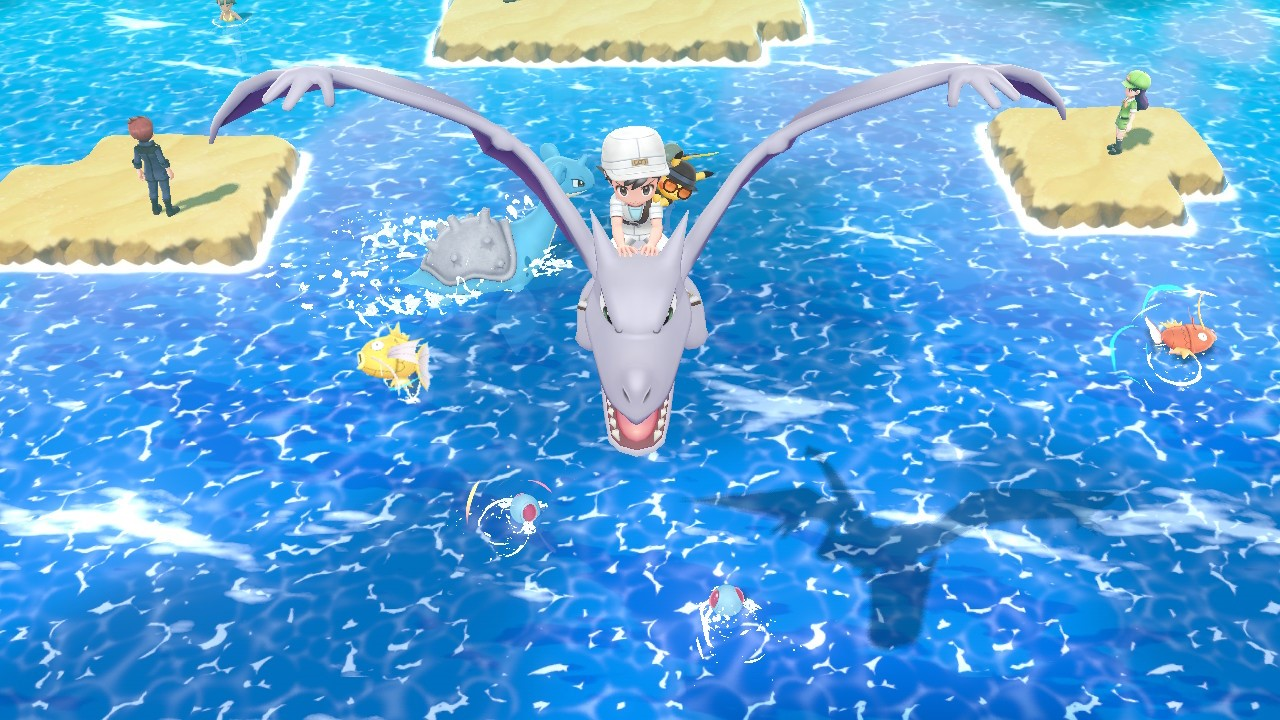Golden: (358, 322, 433, 392)
Red: (1153, 317, 1223, 366)
